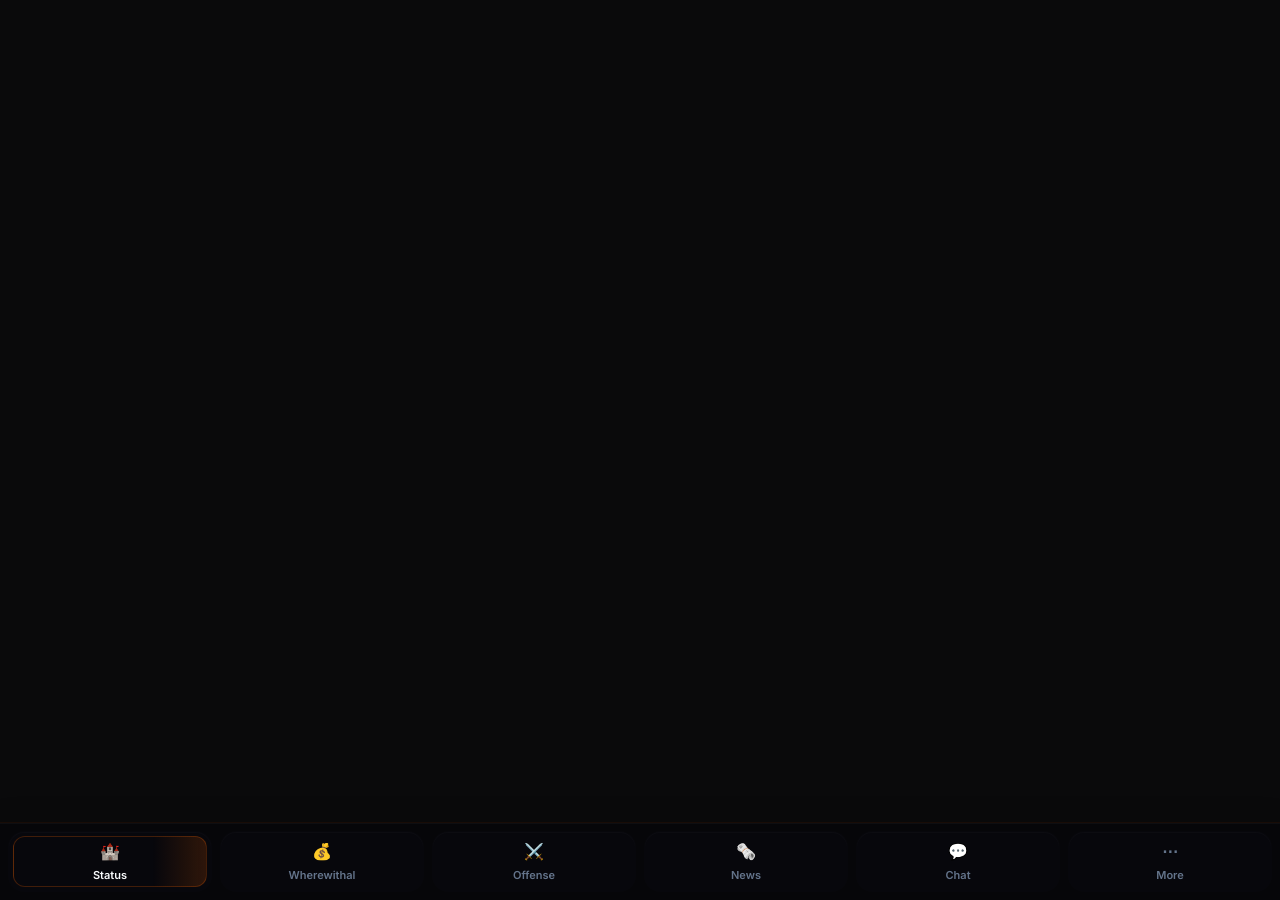
BottomNav › more drawer › should close drawer when close button is clicked
Click the button "⋯ More" at [1170, 862], box [1068,831,1272,892]
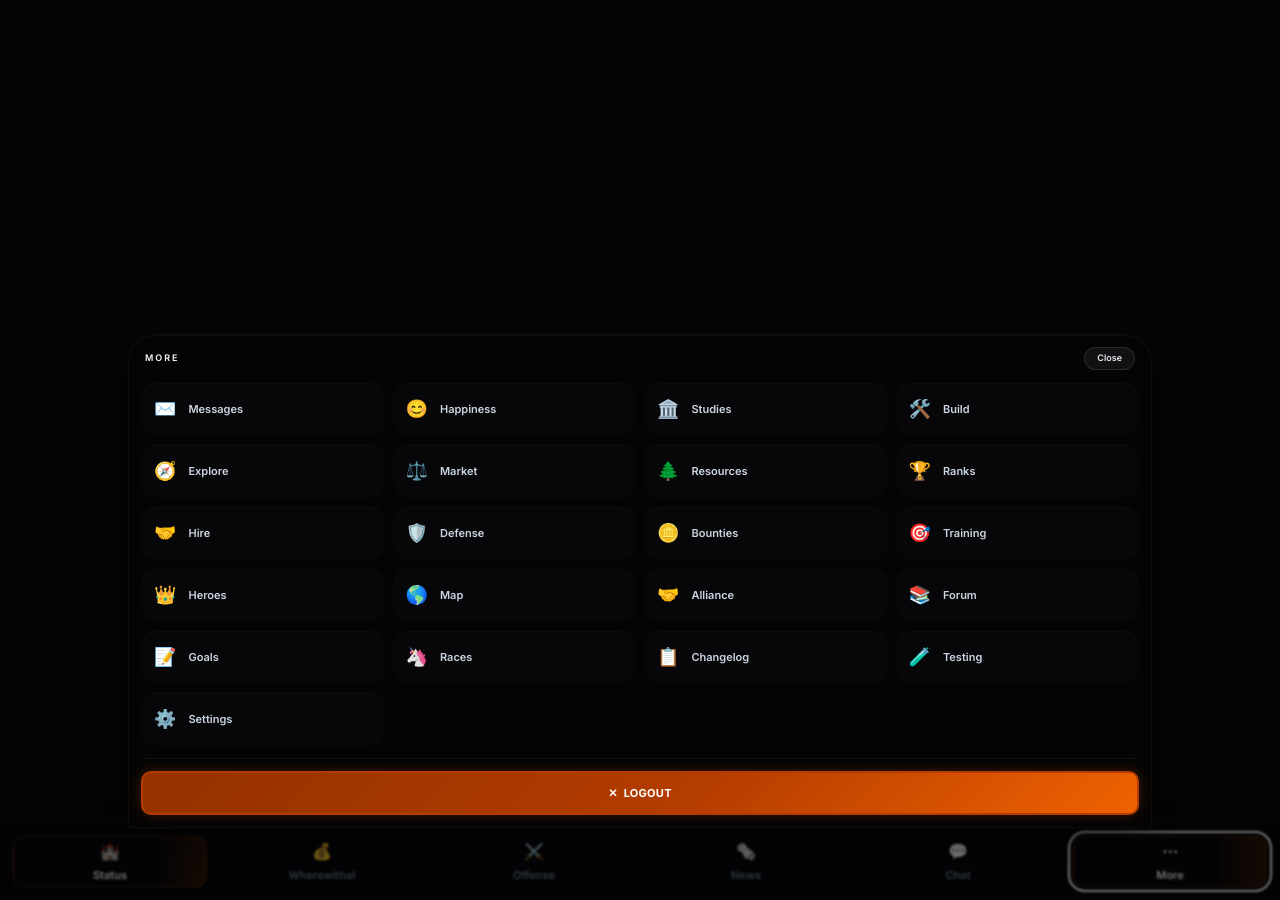
Click the button "Close" at [1110, 359], box [1084,347,1135,370]
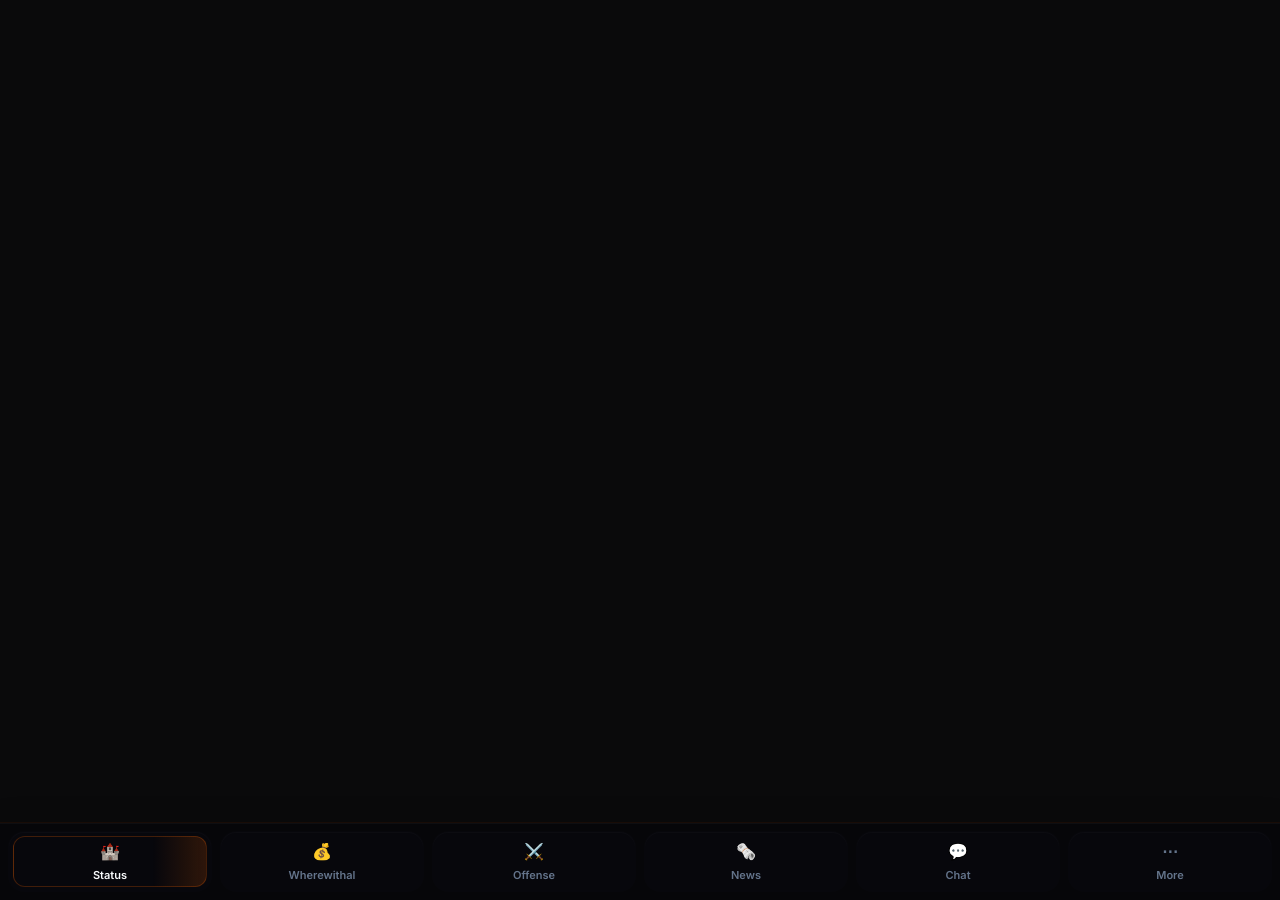
Now the button "⋯ More" is collapsed, box [1068,831,1272,892]
